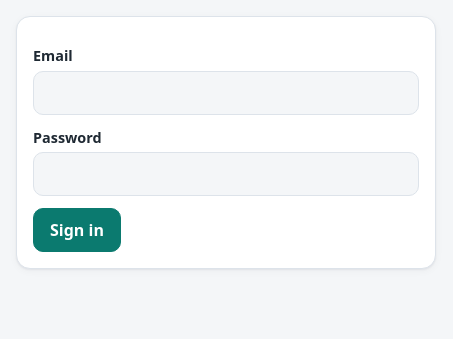
LoginGate › shows an error for a bad email and signs nobody in
Type "nope" into the field labelled "Email" at (226, 93), box [33, 71, 419, 115]
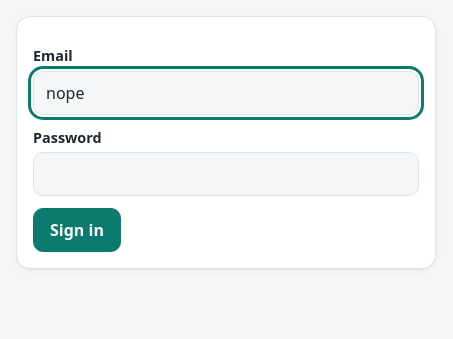
Type "password123" into the password field labelled "Password" at (226, 174), box [33, 152, 419, 196]
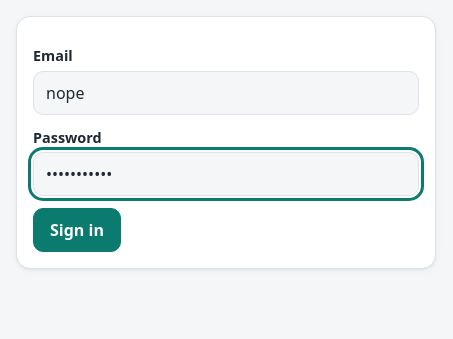
Click the button "Sign in" at (77, 230), box [33, 208, 121, 252]
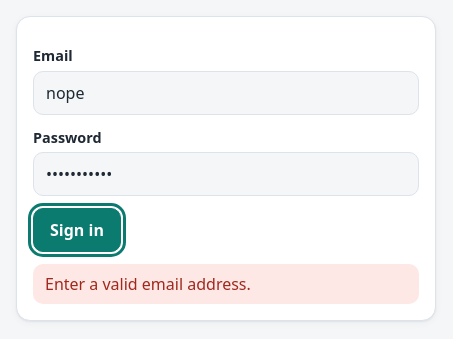
Result: the text "Enter a valid email address." is shown at [33, 264, 419, 304]
